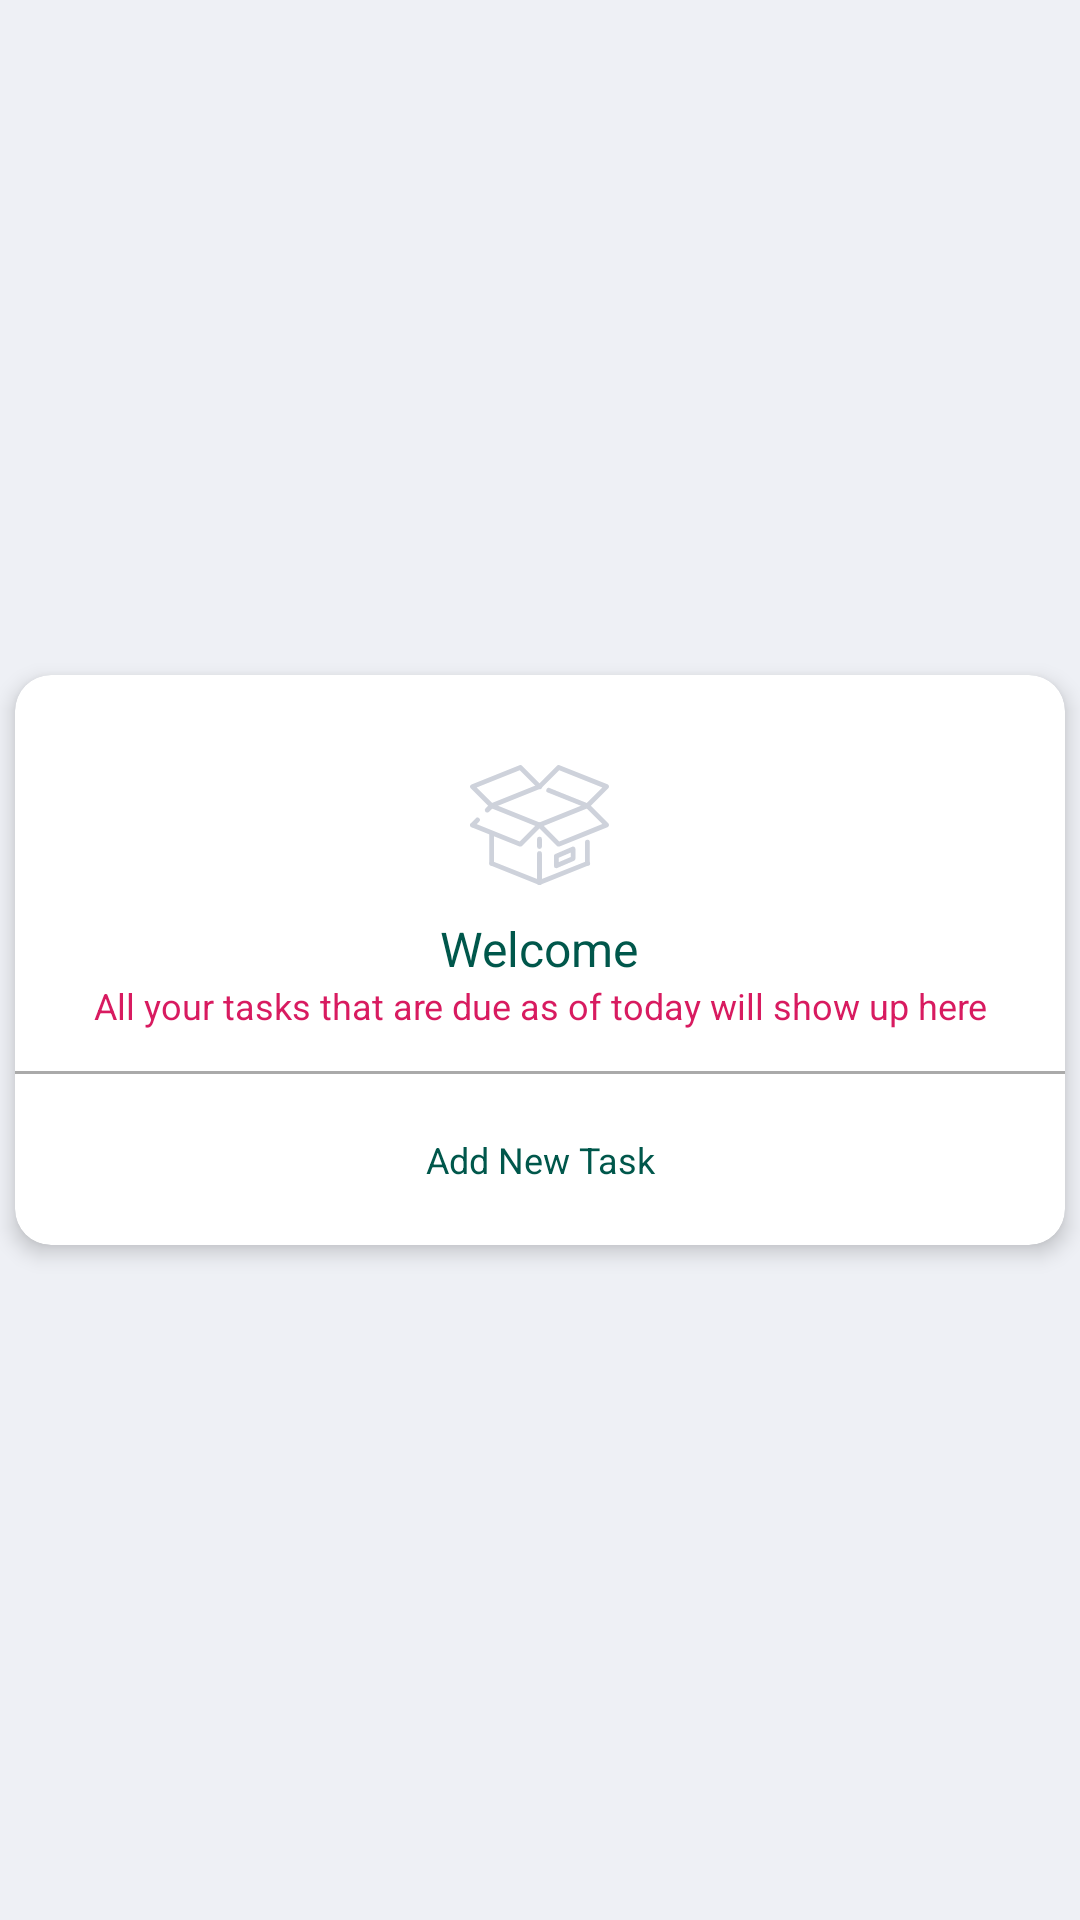

Named icons in this screenshot (1080x1920) and their bounding boxes, (x1, y1, x2, y2):
box: (470, 765, 609, 885)
